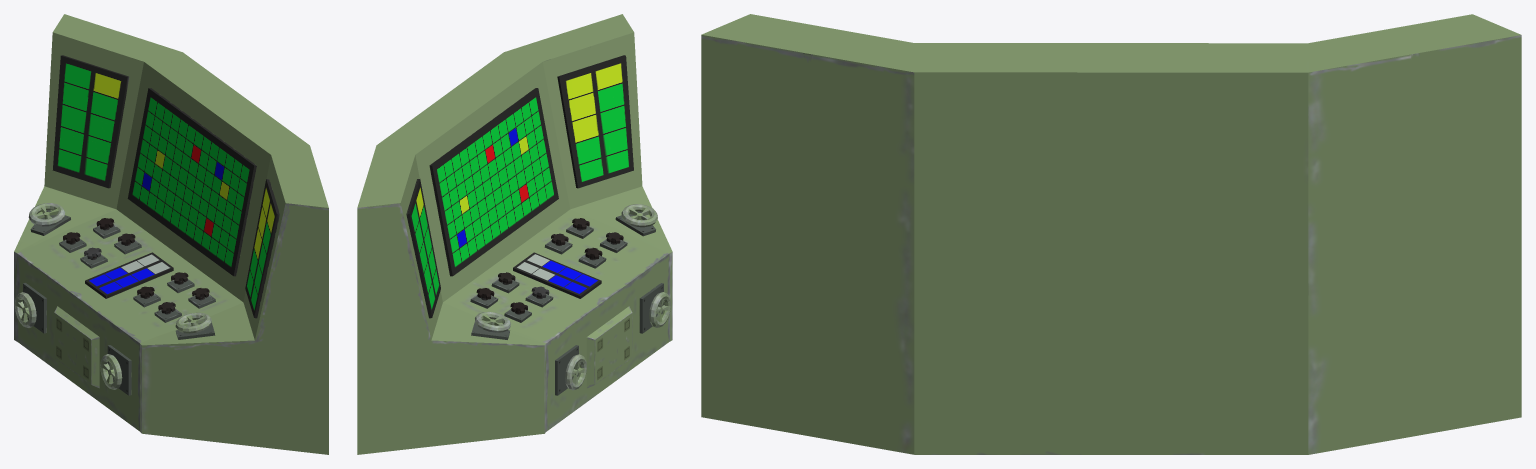
Rendered from control_panel_corner.glb.
3 views of the same model, side by side, from view 1: azimuth 30°, elevation 25°; view 2: azimuth 150°, elevation 25°; view 3: azimuth 270°, elevation 25° (orthographic). The views are drawn at different scales.
Parts seen in each view (by area): view 1: Torus.002; view 2: Torus.002; view 3: Torus.002.
Boxes of the visible parts, box(x1,y1,x2,y2) form: Torus.002: box(14, 14, 328, 454); Torus.002: box(357, 14, 672, 454); Torus.002: box(701, 14, 1521, 454).
Size of the model in its own units: 193 by 250 by 487.
Materials: 1 (1 with a texture image).
